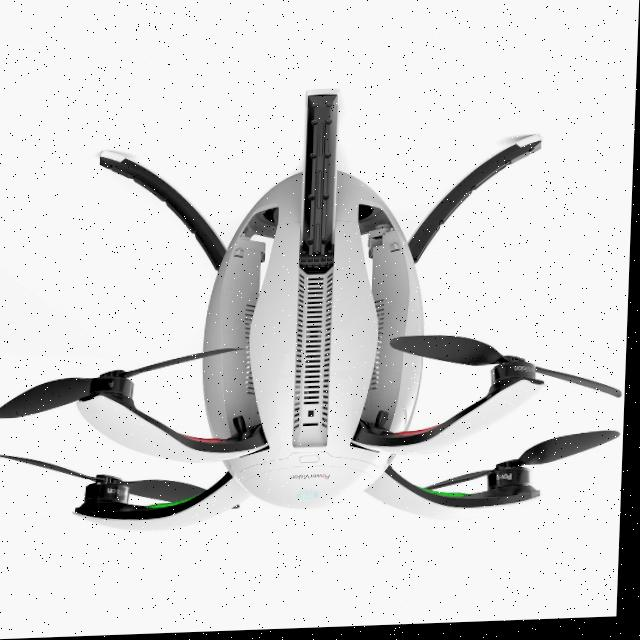drone: (0, 0, 640, 630)
